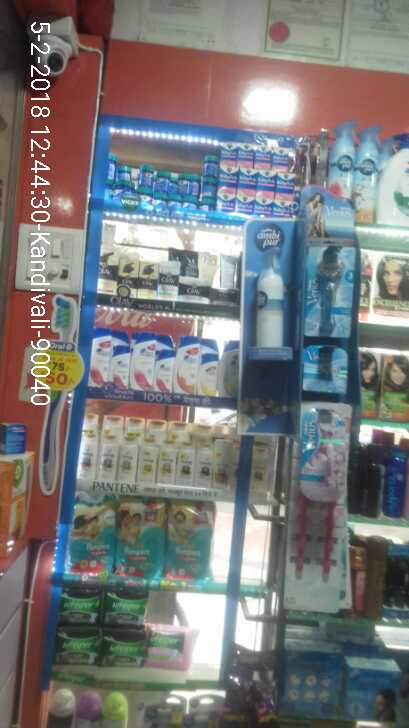vicks: (109, 134, 300, 215)
